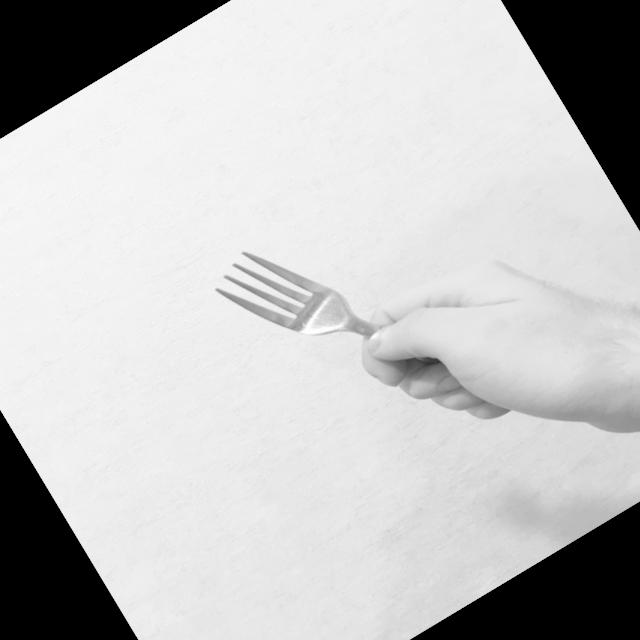fork: (202, 176, 500, 500)
